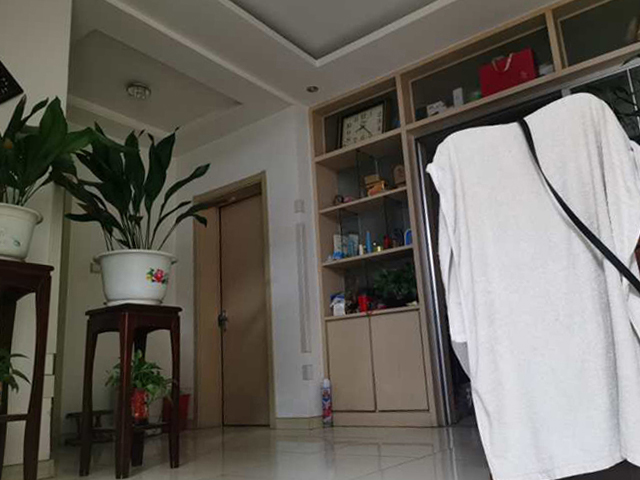cabinet: (322, 301, 448, 427)
